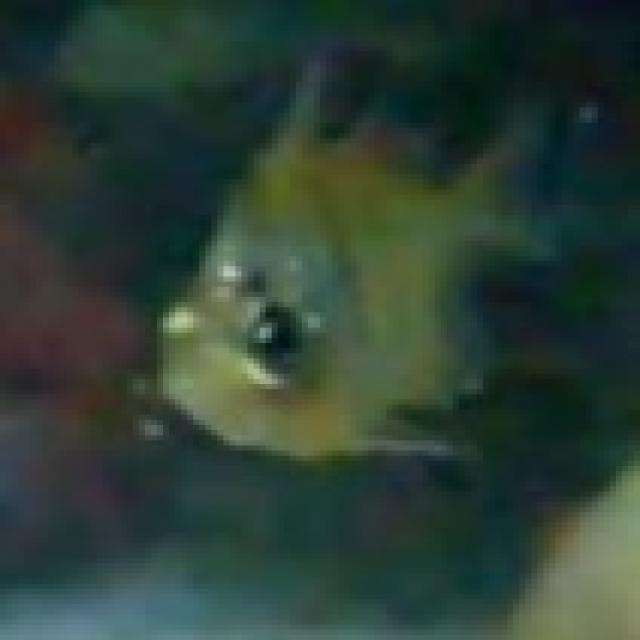Glass-Perchlet: (90, 41, 602, 500)
